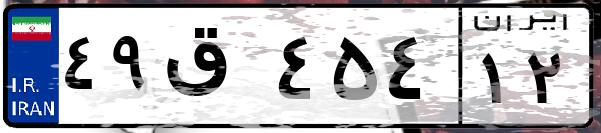1: (475, 38, 525, 113)
2: (525, 38, 570, 115)
4: (270, 28, 330, 110), (385, 28, 445, 110), (57, 26, 110, 100)
5: (330, 28, 385, 110)
9: (110, 28, 158, 98)
ق: (158, 20, 270, 120)
